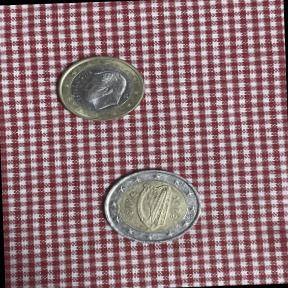coin: (97, 164, 205, 251), (52, 51, 149, 127)
